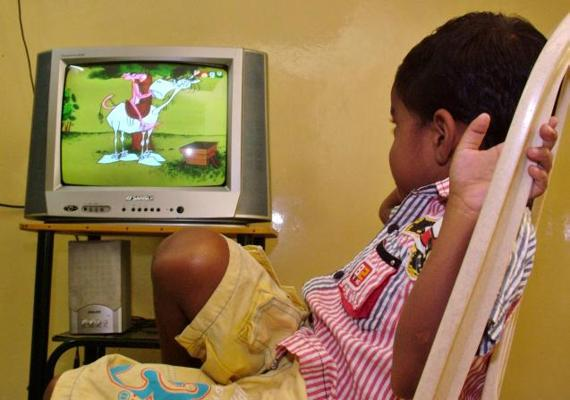person: (40, 14, 560, 397)
